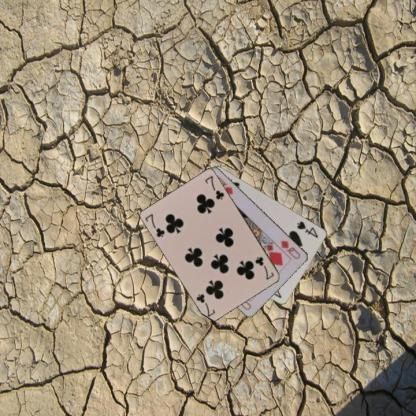4s: (295, 219, 320, 240)
7c: (142, 211, 166, 238), (252, 254, 275, 282)
Qd: (278, 238, 302, 260)
